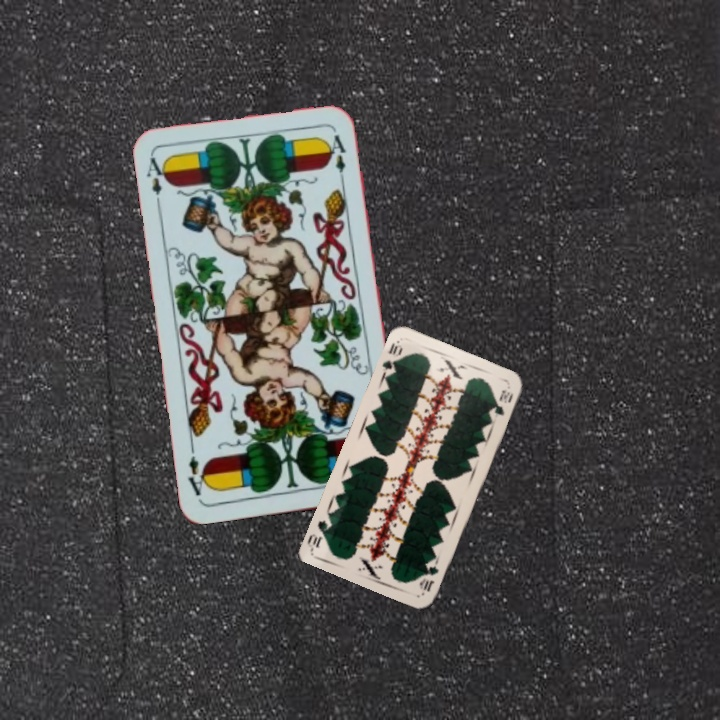EA: (142, 152, 171, 211)
G10: (378, 337, 405, 378), (416, 562, 441, 594)
